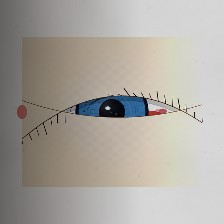hemorrhage_spot: (119, 99, 178, 147)
